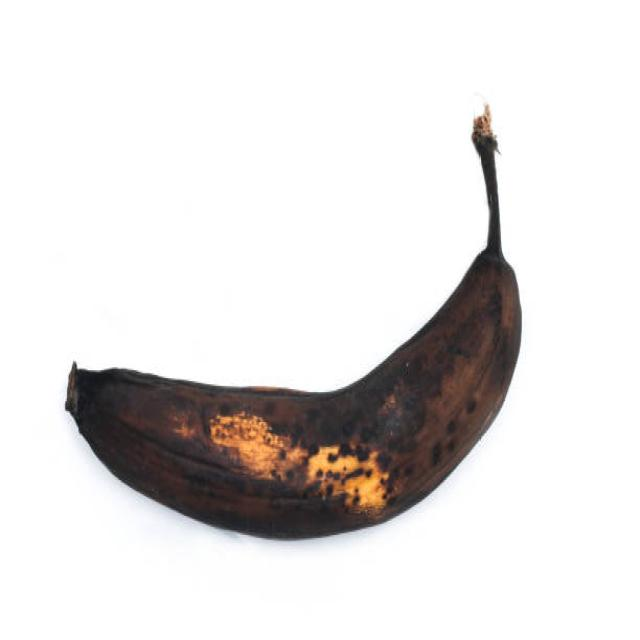Rotten: (61, 107, 524, 536)
